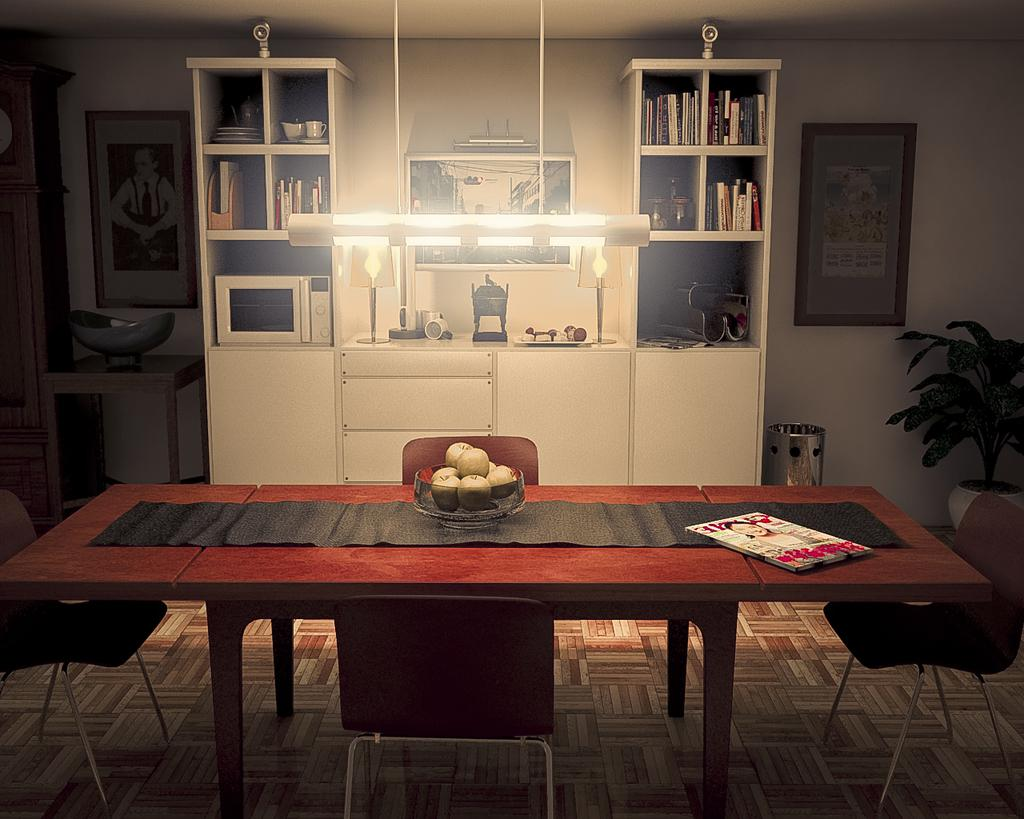Book: (684, 510, 872, 573)
Chair: (821, 490, 1023, 817), (0, 489, 170, 813)
Computer-monitor: (212, 271, 333, 347)
